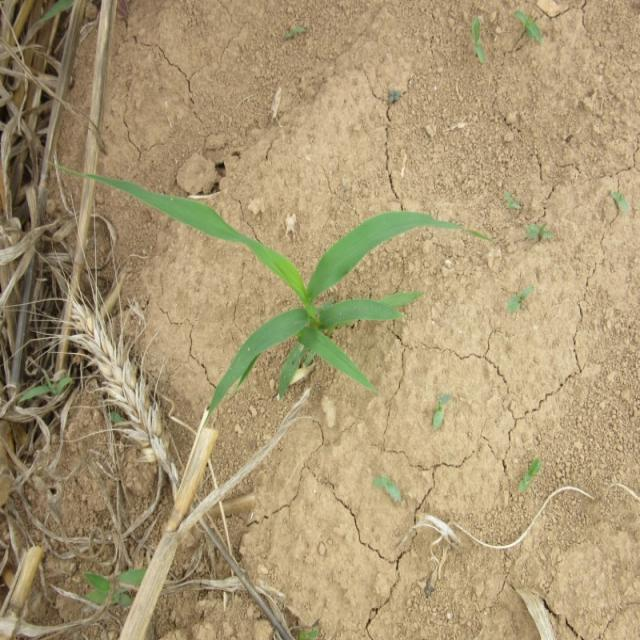bg: (36, 150, 503, 424)
